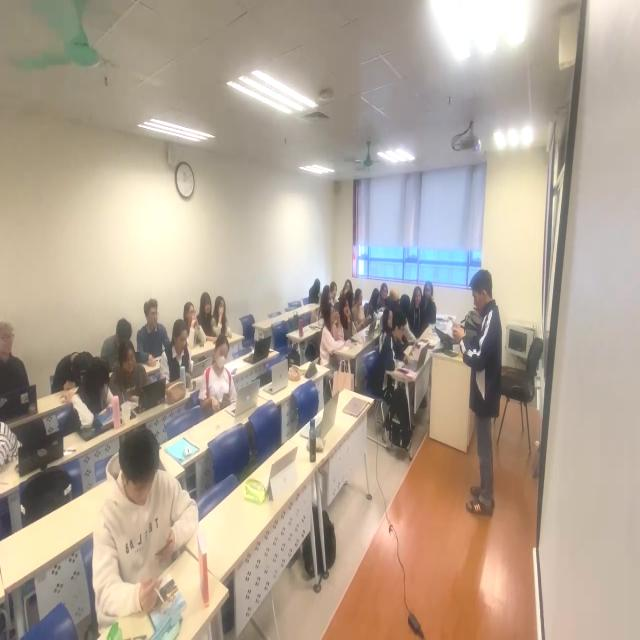raise_head: (1, 307, 34, 417), (141, 295, 168, 361), (321, 302, 346, 367), (182, 300, 206, 349), (341, 296, 356, 341), (411, 286, 425, 333), (201, 290, 214, 340), (379, 307, 393, 352), (219, 290, 230, 339), (380, 282, 391, 311), (330, 281, 341, 304)
sleep: (49, 347, 90, 399)
stand: (446, 254, 513, 529)
using_computer: (114, 342, 168, 422), (166, 314, 212, 397), (383, 310, 428, 379), (355, 287, 379, 335)
using_phone: (93, 415, 200, 632), (204, 329, 238, 414)
